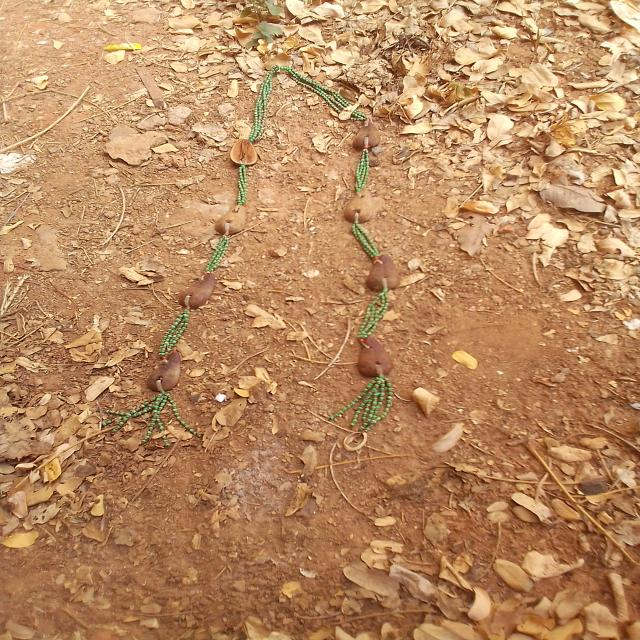facedown: (144, 342, 186, 398), (354, 331, 398, 380), (179, 268, 220, 310), (363, 253, 405, 293), (212, 198, 250, 240), (342, 186, 376, 227), (350, 118, 383, 153)
faceup: (228, 136, 259, 169)
